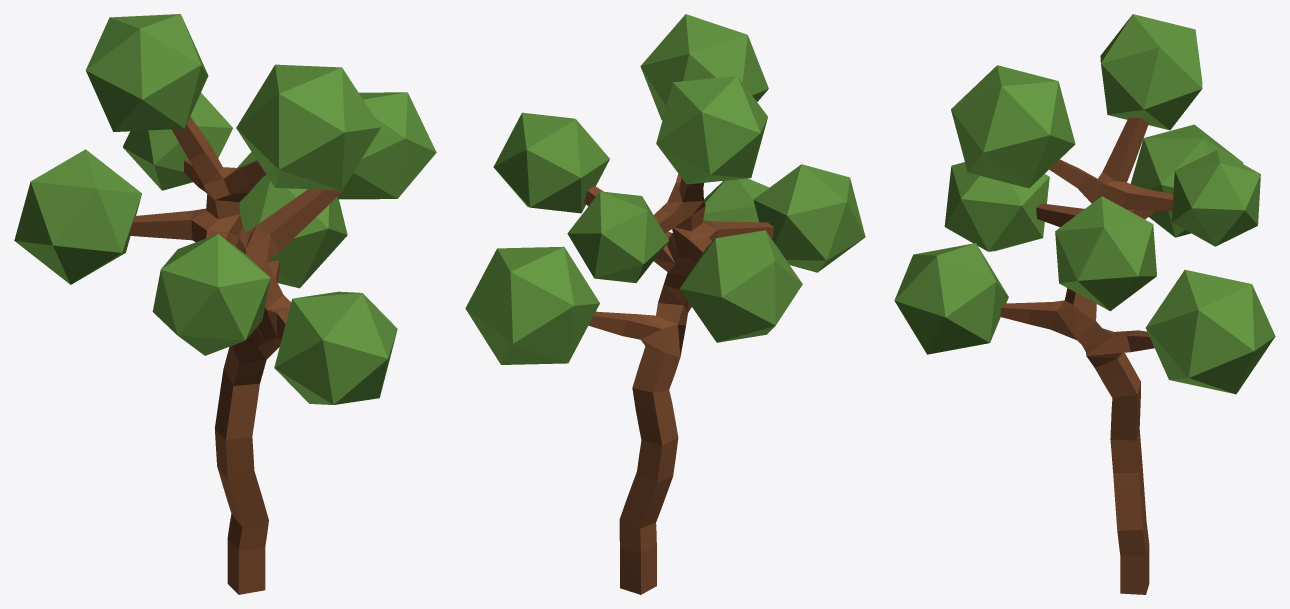
File: largest tree.fbx
The picture shows the model from 3 angles, left to right: view 1: azimuth 30°, elevation 25°; view 2: azimuth 150°, elevation 25°; view 3: azimuth 270°, elevation 25°; orthographic projection. The views are drawn at different scales.
Parts seen in each view (by area): view 1: tree 5; view 2: tree 5; view 3: tree 5.
Boxes of the visible parts, x1,y1,x2,y2 form: tree 5: (14, 14, 436, 594); tree 5: (465, 14, 865, 594); tree 5: (894, 14, 1275, 594).
Size of the model in its own units: 7 by 11.19 by 7.33.
